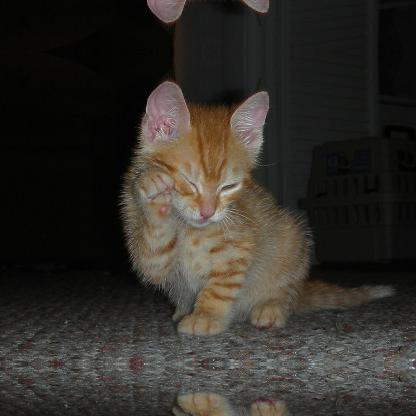Cat: (117, 79, 395, 333)
